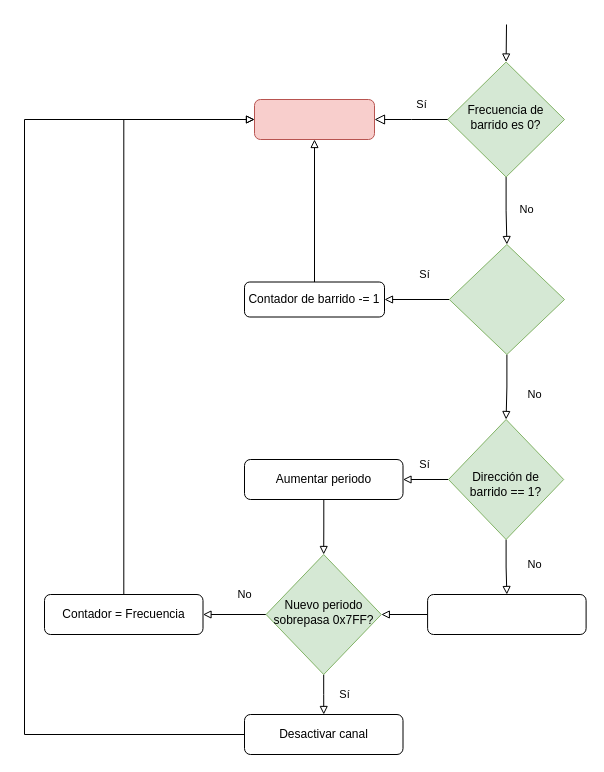
This 604x772 diagram has some shape labels left out. The box of each missing label's shape, as (x1, y1, x2, y2) in pixels:
Contador de barrido > 0?: (448, 244, 564, 354)
END: (254, 98, 374, 140)
Reducir periodo: (427, 594, 586, 634)
